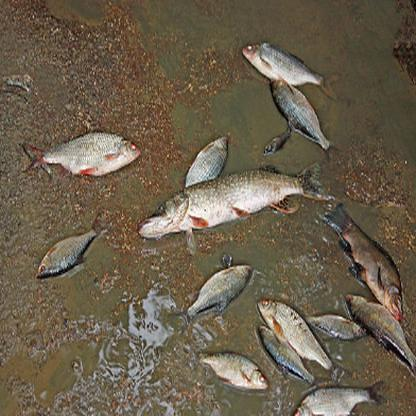deceased fish: (135, 164, 330, 238), (318, 201, 406, 319), (255, 299, 345, 376), (29, 215, 114, 281), (347, 293, 416, 370), (269, 76, 334, 151), (240, 40, 330, 91), (22, 134, 143, 170), (182, 260, 251, 319), (254, 329, 318, 387), (288, 381, 393, 416), (195, 348, 268, 390), (185, 134, 229, 189), (297, 311, 366, 341)
